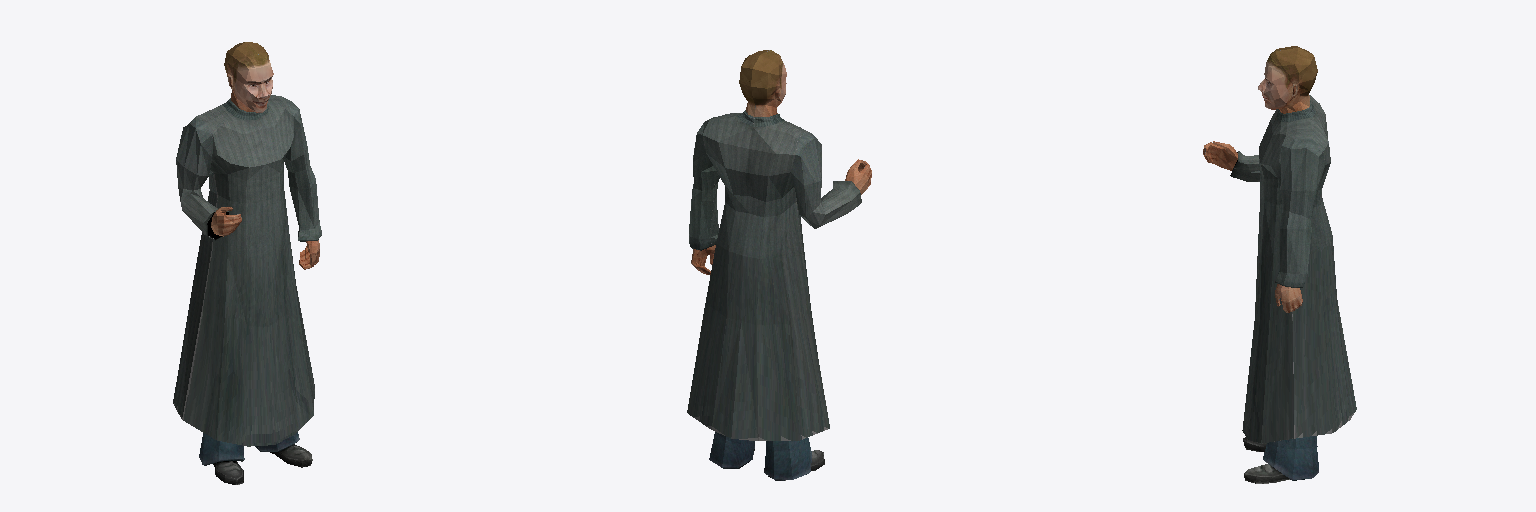
3 renders of one model, left to right at view 1: azimuth 30°, elevation 25°; view 2: azimuth 150°, elevation 25°; view 3: azimuth 270°, elevation 25°, orthographic.
Visible parts, largest first — view 1: skin; view 2: skin; view 3: skin.
Boxes of the visible parts, x1=… form: skin: x1=173, y1=42, x2=321, y2=484; skin: x1=687, y1=50, x2=871, y2=480; skin: x1=1203, y1=46, x2=1356, y2=483.
Bounding box in the file's own units: 1.77 × 4.95 × 1.66.
Materials: 1 (1 with a texture image).